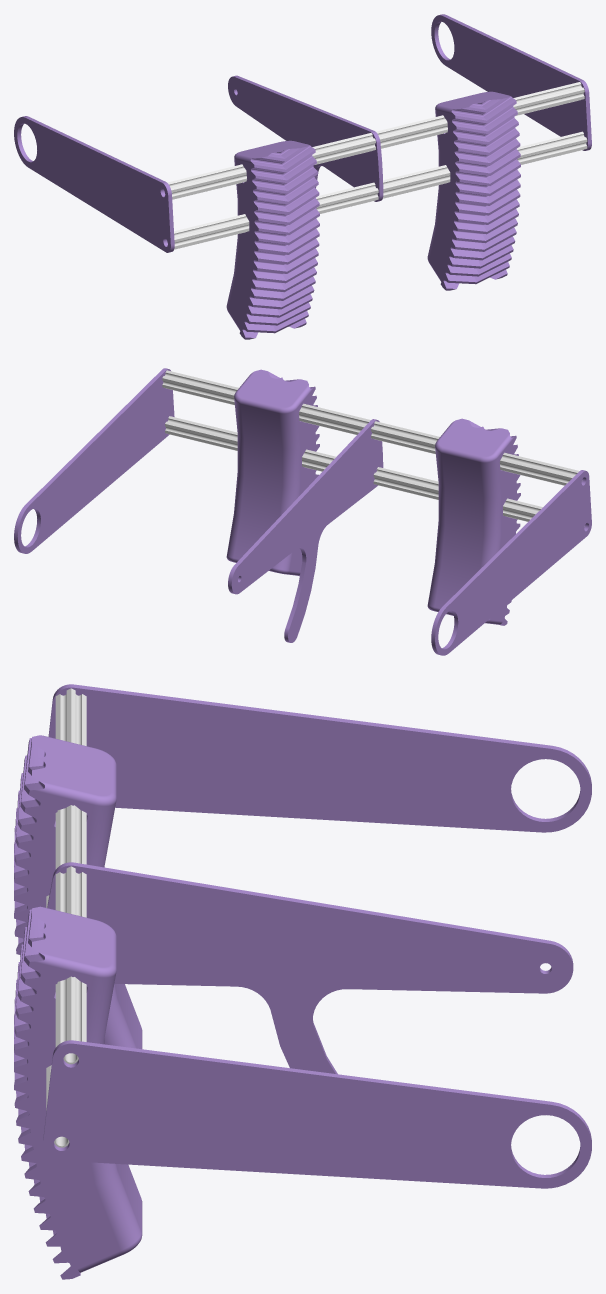
3 views of the same model, one above another, from view 1: azimuth 30°, elevation 25°; view 2: azimuth 150°, elevation 25°; view 3: azimuth 270°, elevation 25° (orthographic). The views are drawn at different scales.
Parts seen in each view (by area): view 1: Spur gear (170 teeth) (×2), 9062-SHO-06 (×2), Churro (6.688 in) (×4), 9062-SHO-05; view 2: Spur gear (170 teeth) (×2), 9062-SHO-06 (×2), 9062-SHO-05, Churro (6.688 in) (×4); view 3: 9062-SHO-06 (×2), 9062-SHO-05, Spur gear (170 teeth) (×2), Churro (6.688 in) (×2).
Part boxes in pixels (x1,y1,x2,y2): Spur gear (170 teeth) (×2): [226, 91, 520, 339]; 9062-SHO-06 (×2): [14, 14, 591, 252]; Churro (6.688 in) (×4): [164, 82, 587, 249]; 9062-SHO-05: [228, 75, 383, 201]; Spur gear (170 teeth) (×2): [226, 369, 520, 625]; 9062-SHO-06 (×2): [14, 368, 591, 655]; 9062-SHO-05: [228, 419, 383, 642]; Churro (6.688 in) (×4): [162, 370, 584, 526]; 9062-SHO-06 (×2): [43, 684, 591, 1188]; 9062-SHO-05: [47, 862, 573, 1074]; Spur gear (170 teeth) (×2): [14, 735, 142, 1279]; Churro (6.688 in) (×2): [55, 688, 86, 1064].
Size of the model in its own units: 0.3492 by 0.1489 by 0.2374.
